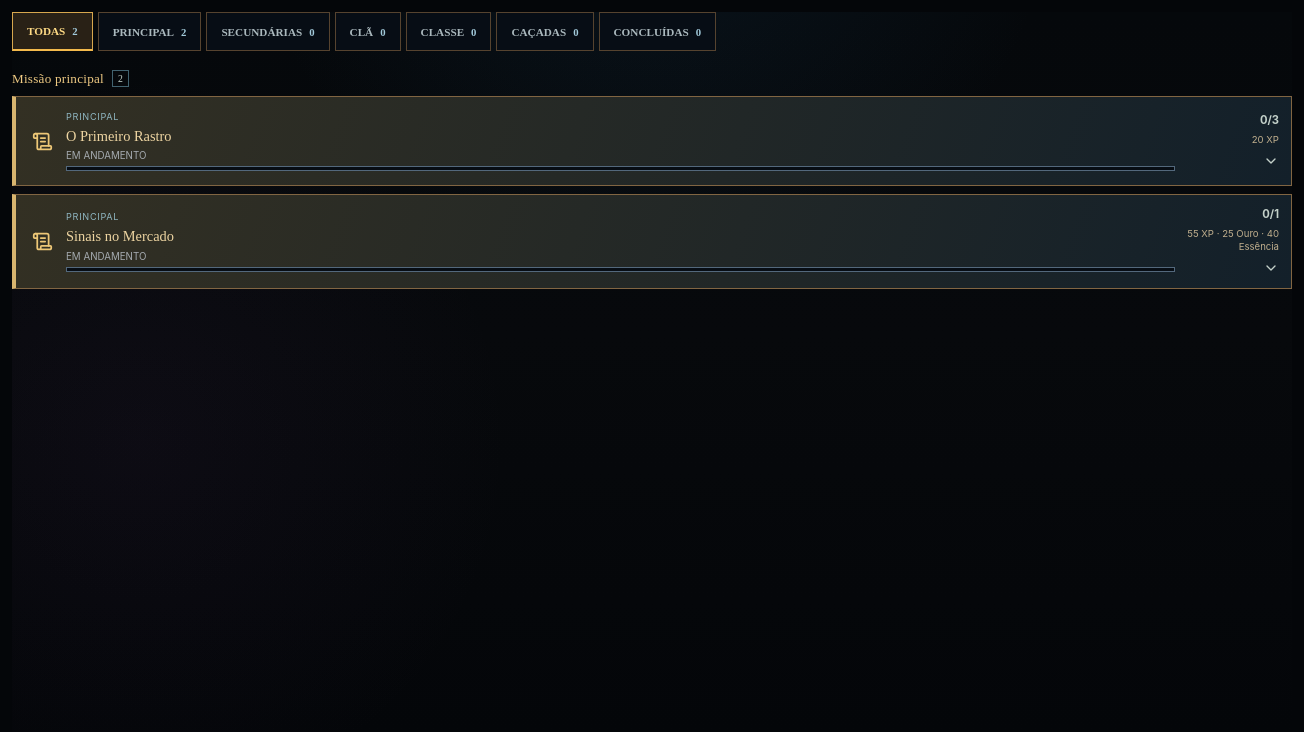
Test: Registro visual de missões › mostra missões em linhas e abre objetivos e recompensas apenas por interação
Check: the element named "Diário de missões" is shown, box x1=12 y1=12 x2=1292 y2=289
Step 1. Click the button with aria-label "Detalhes da missão Sinais no Mercado" → x=93, y=217, box x1=12 y1=194 x2=1292 y2=289
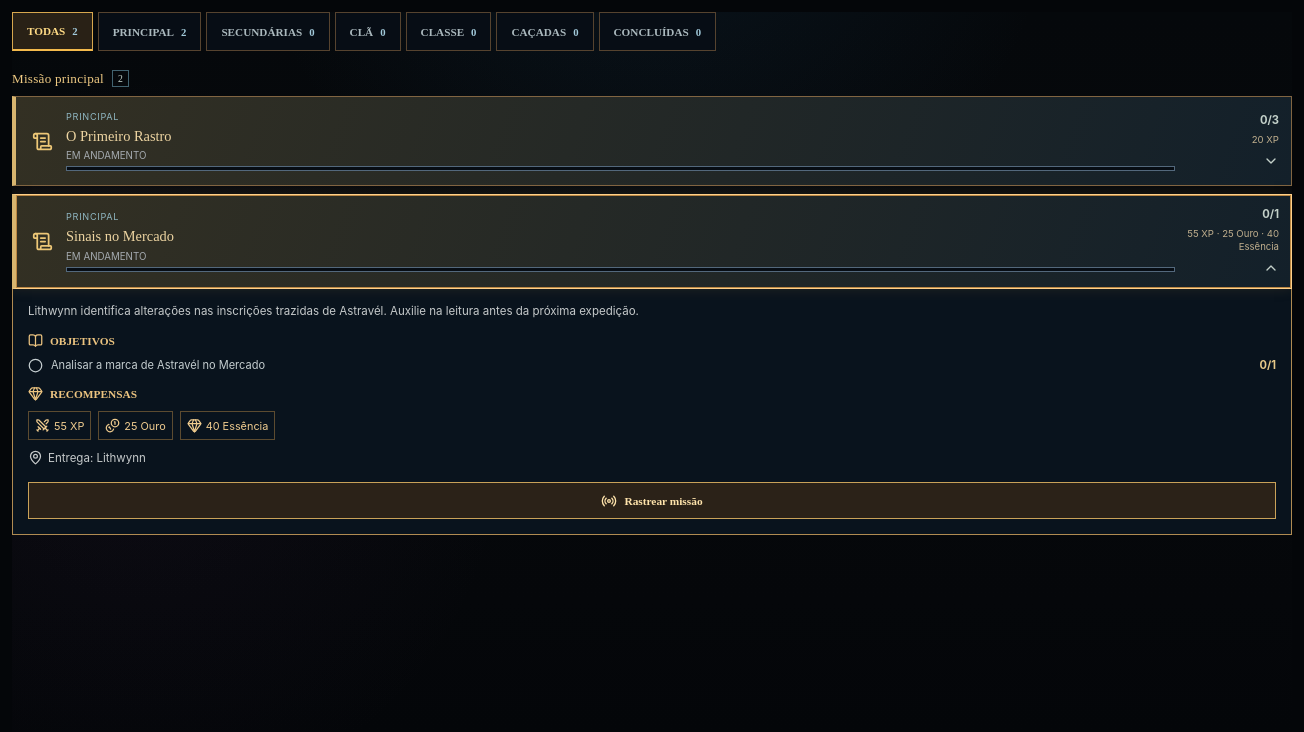
Check: the text "Lithwynn identifica alterações nas inscrições trazidas de Astravél. Auxilie na leitura antes da próxima expedição." is shown, box x1=28 y1=304 x2=639 y2=318
Check: the heading "Objetivos" is shown, box x1=28 y1=333 x2=115 y2=348
Check: the heading "Recompensas" is shown, box x1=28 y1=386 x2=137 y2=401
Step 2. Click the button "Principal O Primeiro Rastro Em andamento 0/3 20 XP" → x=93, y=116, box x1=12 y1=96 x2=1292 y2=186
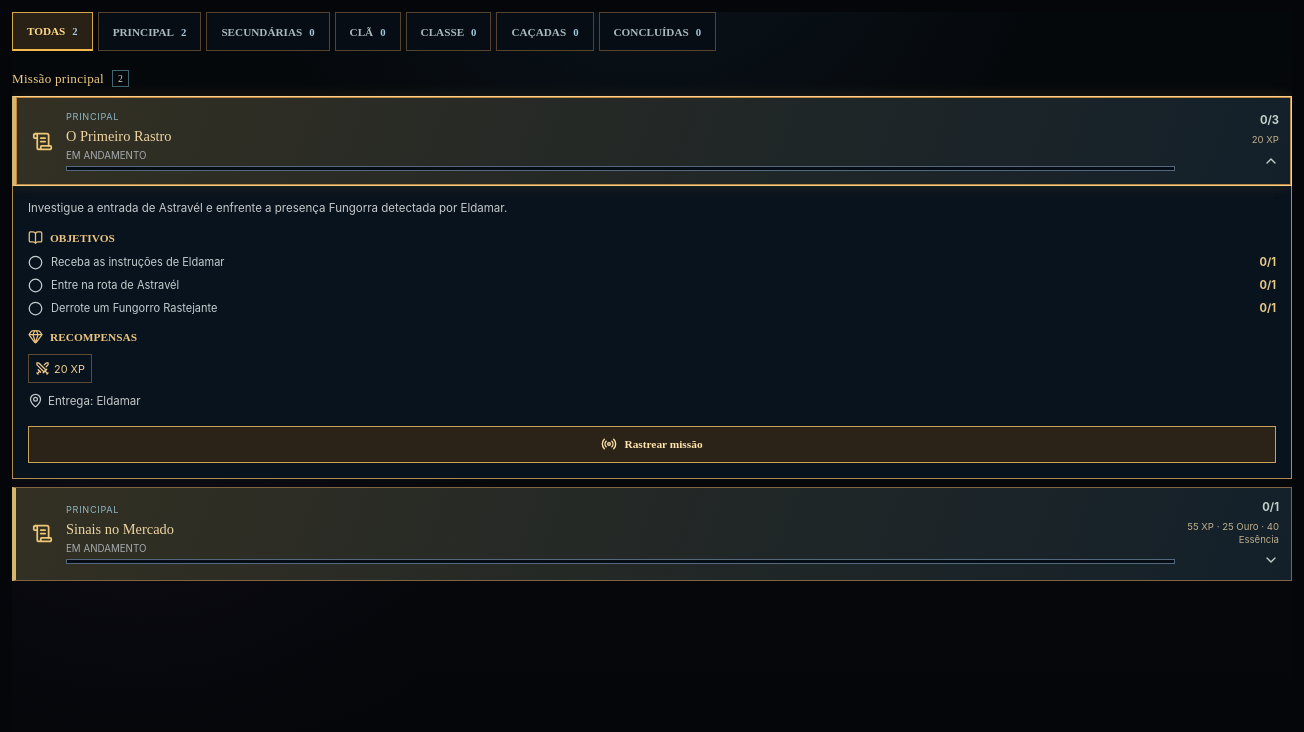
Step 3. Click the button "Secundárias 0" → x=268, y=32, box x1=206 y1=12 x2=330 y2=51
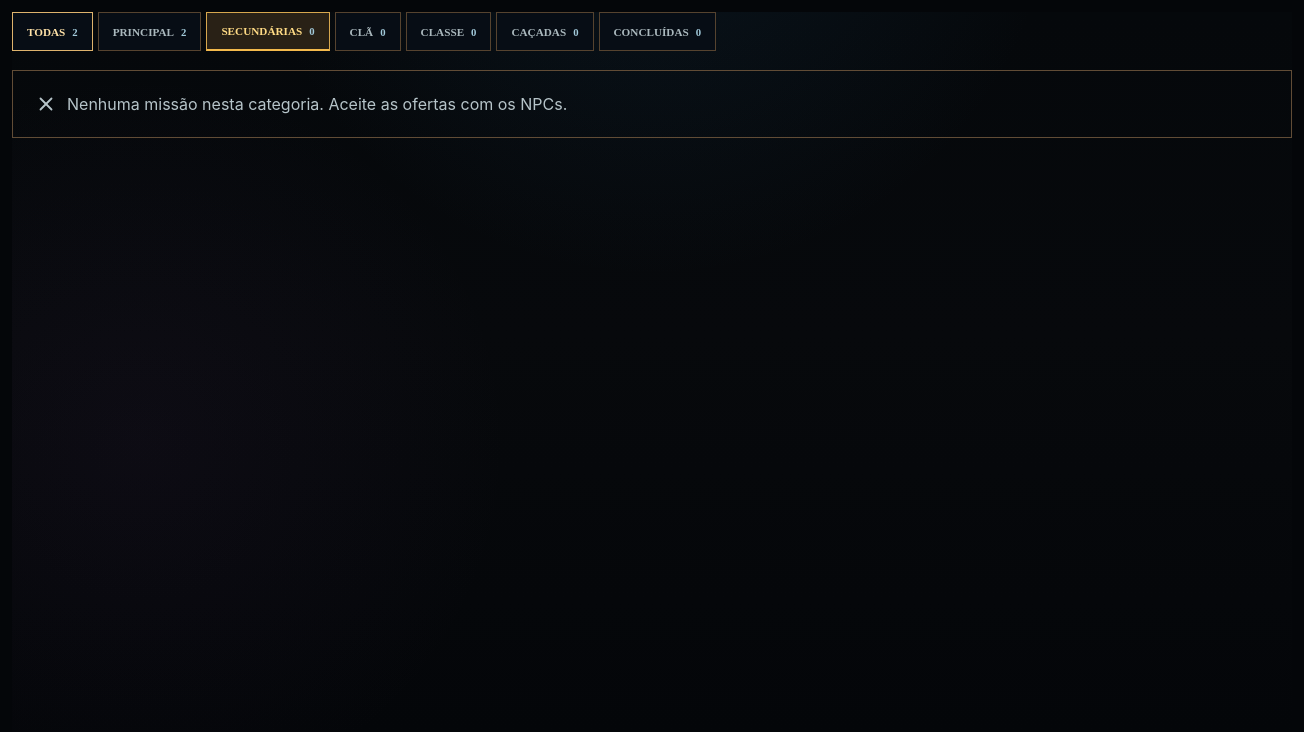
Check: the text "Nenhuma missão nesta categoria" is shown, box x1=67 y1=94 x2=567 y2=114
